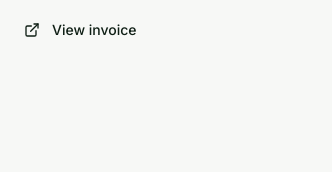
Test: SecureExternalLink › only claims the link was copied when copying succeeded
What coordinates should you click on to do the following:
click the button "View invoice"
I would click on:
 (80, 30)
Its box is left=12, top=12, right=149, bottom=48.
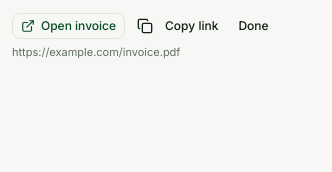
Expected: the link "Open invoice" is shown, left=12, top=13, right=125, bottom=39
What coordinates should you click on to do the following:
click the button "Copy link"
I would click on:
 (178, 26)
Its box is left=129, top=12, right=226, bottom=40.
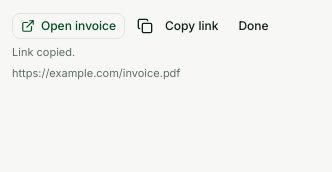
Expected: the text "Link copied." is shown, left=12, top=45, right=75, bottom=59
